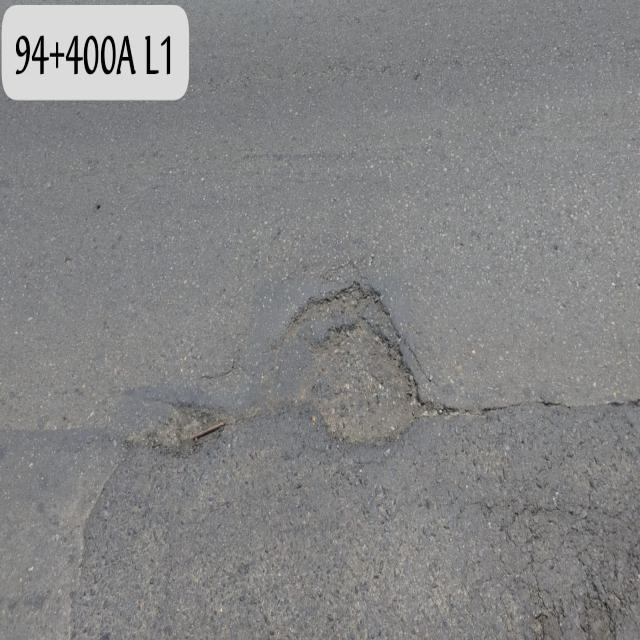Buraco: (269, 280, 439, 452), (117, 397, 241, 465)
